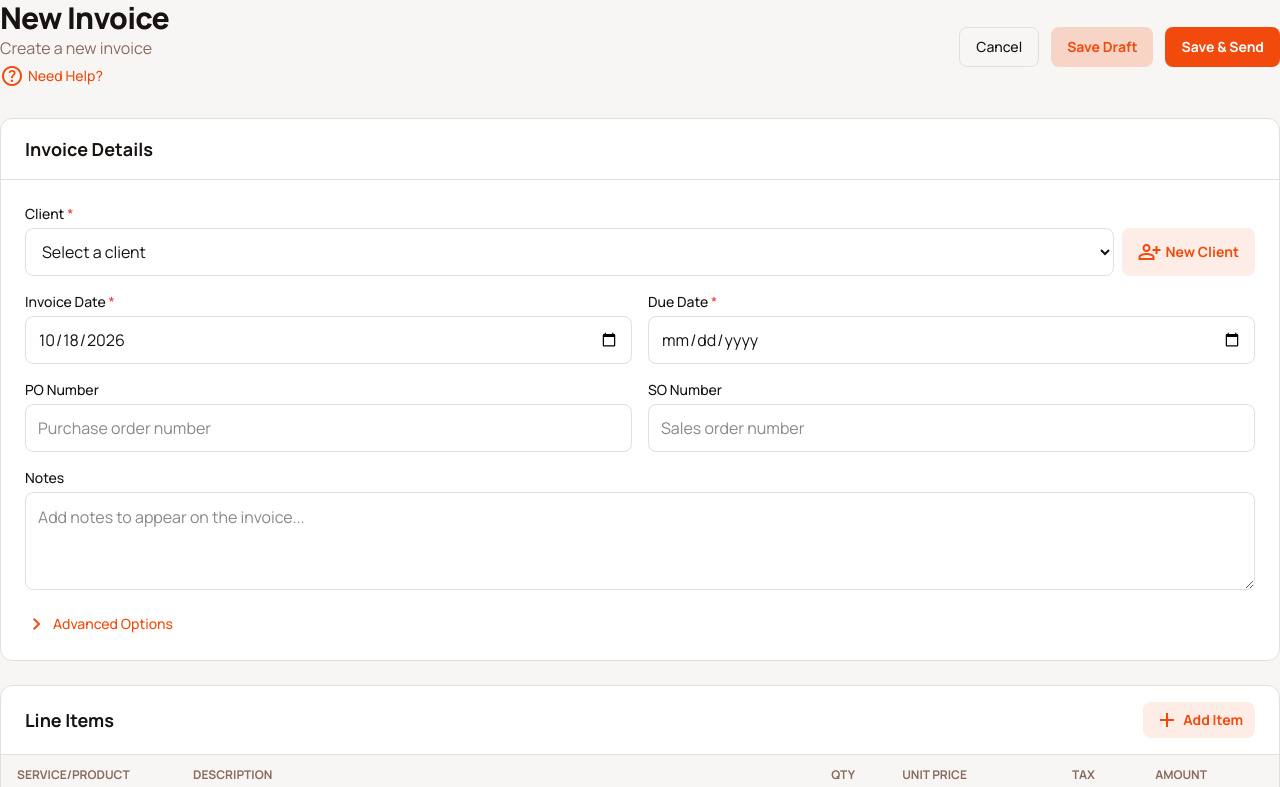
Test case: InvoiceFormPage › SOUPFIN-27: account services resolution & client dropdown › warns and blocks creation when the portfolio has no accountServices
The image size is (1280, 787).
Select "No Services Corp" in the dropdown with test id "invoice-client-select": x=569, y=252 [25,228,1114,276]
(page scrolled)
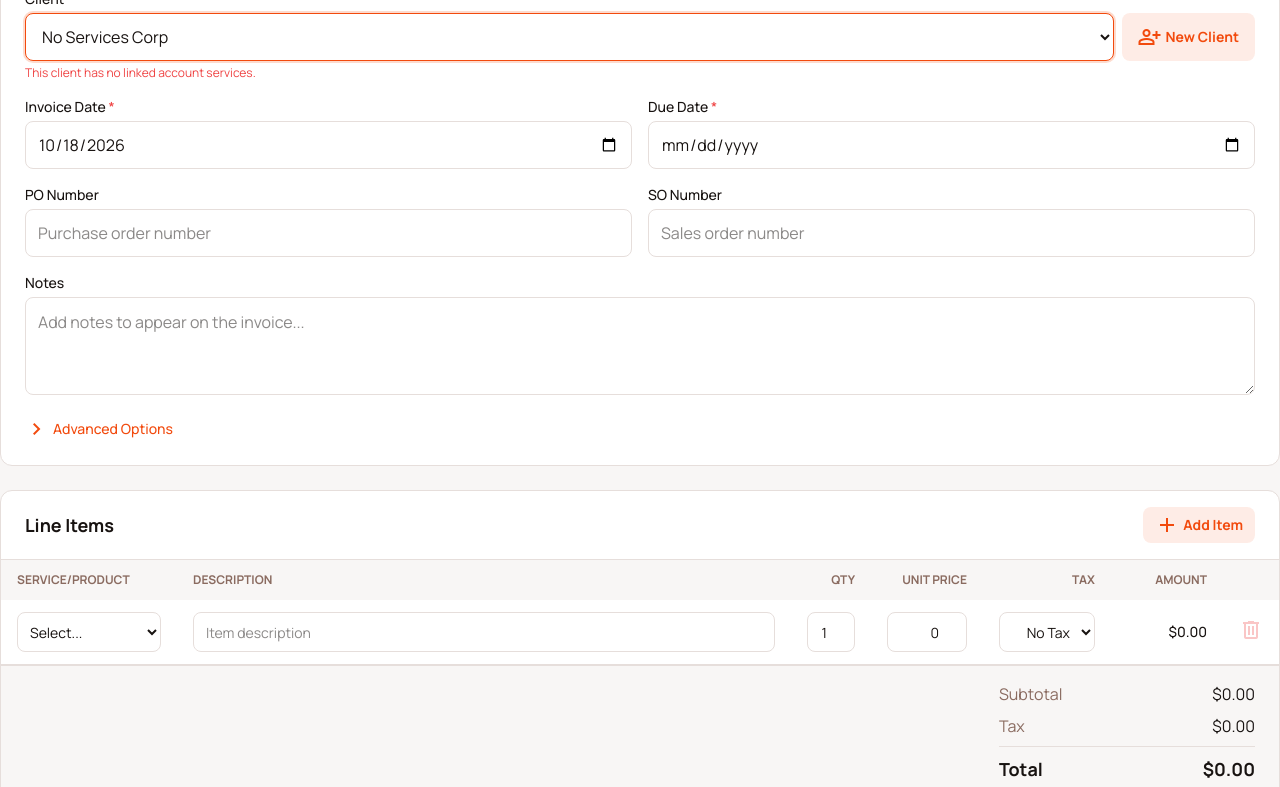
Expected: the text "This client has no linked account services." is shown, [25,64,256,81]
In the field with test id "invoice-item-description-0": x=484, y=632 [193,612,775,652], type "Service"
(page scrolled)
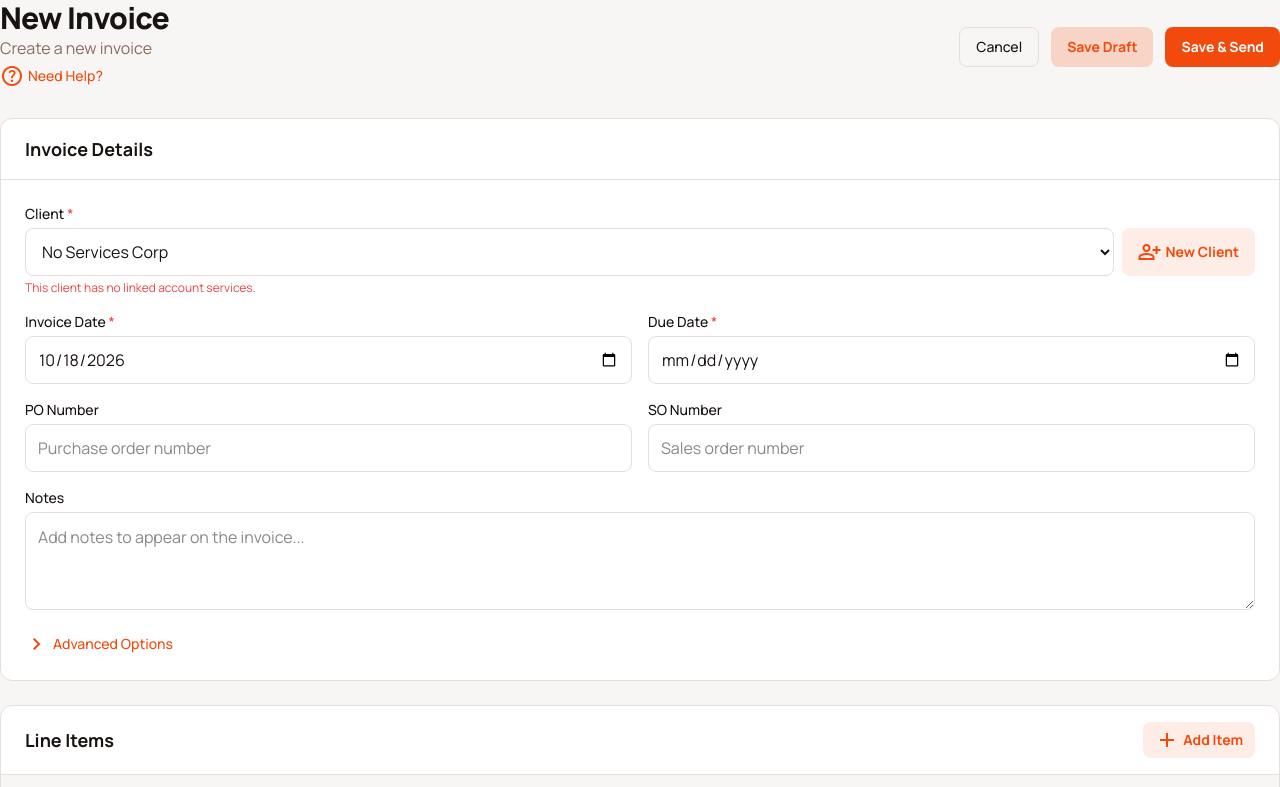
Click the button with test id "invoice-form-save-draft-button": x=1102, y=47 [1051,27,1153,67]
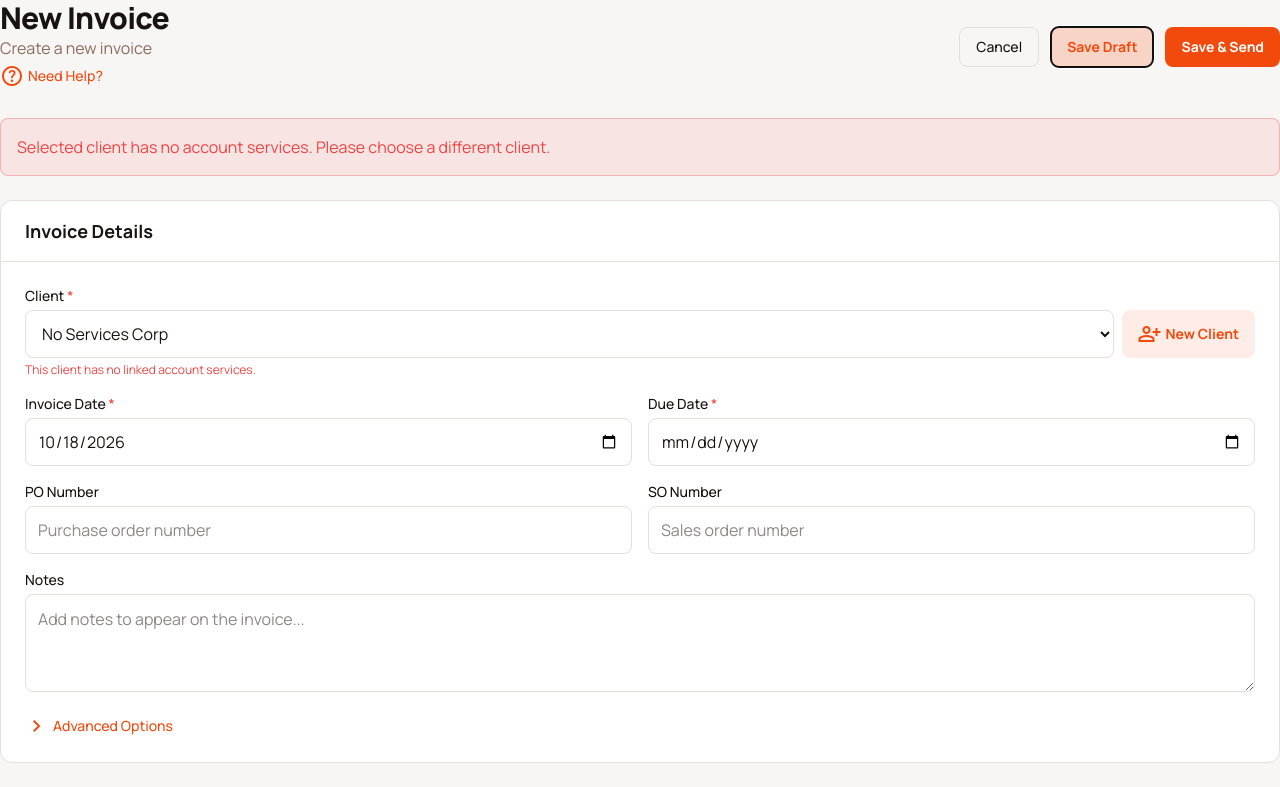
Expected: the text with test id "invoice-form-error-message" shows "no account services", [17,136,550,158]
